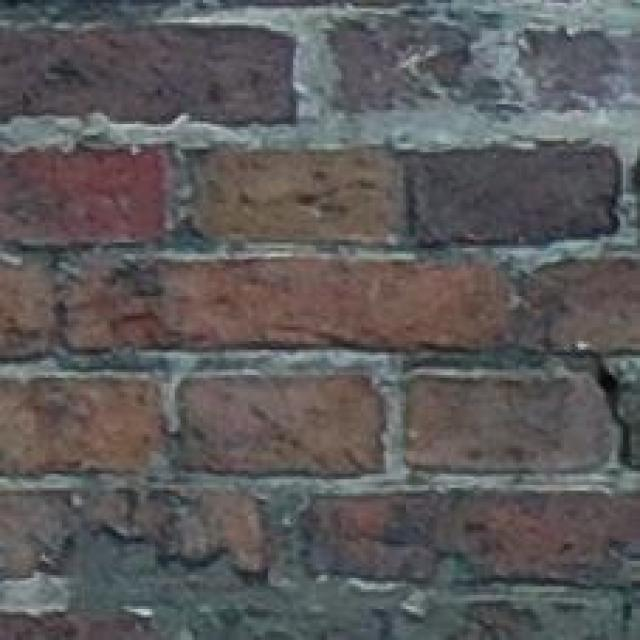Crack: (478, 293, 640, 502)
